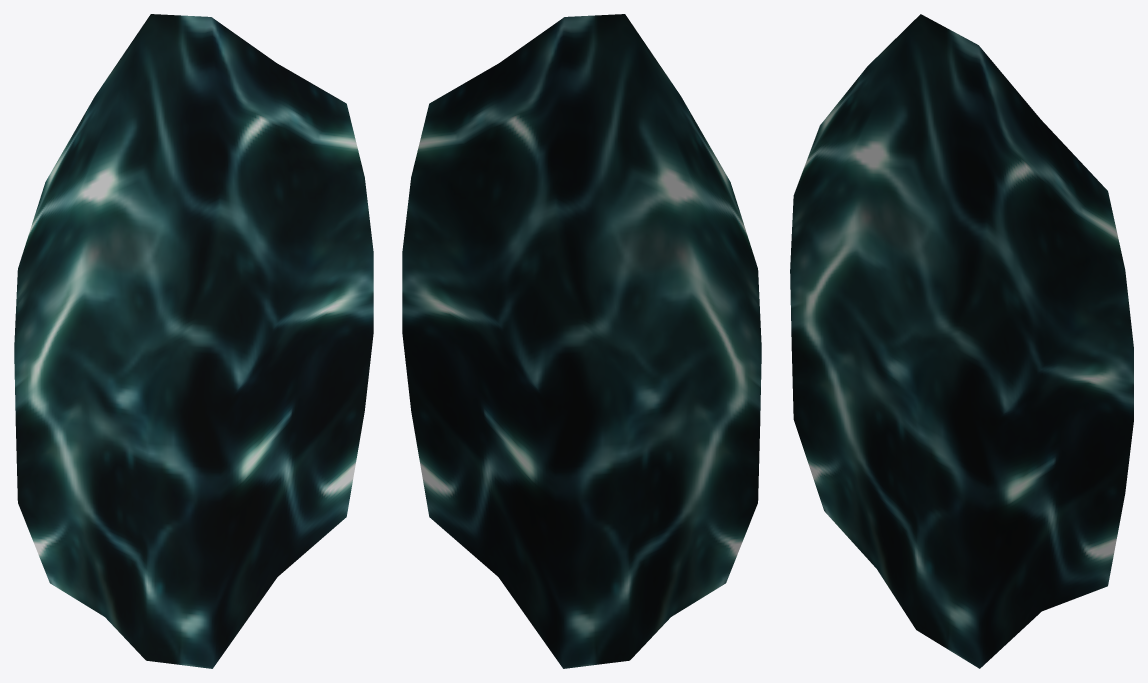
The model's file is Eff_Aura1.FBX.
The picture shows the model from 3 angles, left to right: view 1: azimuth 30°, elevation 25°; view 2: azimuth 150°, elevation 25°; view 3: azimuth 330°, elevation 25°; orthographic projection. The views are drawn at different scales.
Visible parts, largest first — view 1: Eff_Aura_1; view 2: Eff_Aura_1; view 3: Eff_Aura_1.
Part boxes in pixels (left/top/right/bottom): Eff_Aura_1: left=14, top=14, right=373, bottom=668; Eff_Aura_1: left=402, top=14, right=761, bottom=668; Eff_Aura_1: left=790, top=14, right=1133, bottom=668.
Size of the model in its own units: 96.49 by 1.05e-14 by 172.
